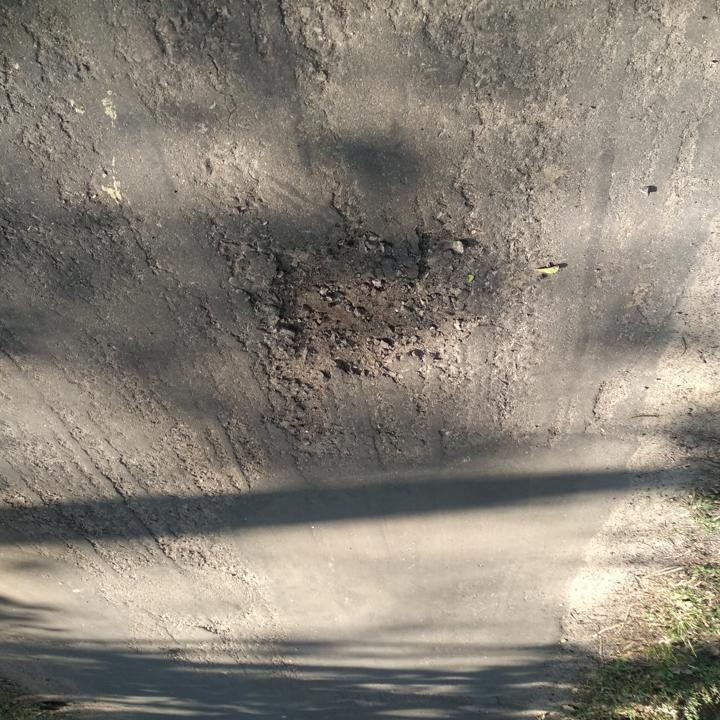pothole: (261, 228, 474, 383)
